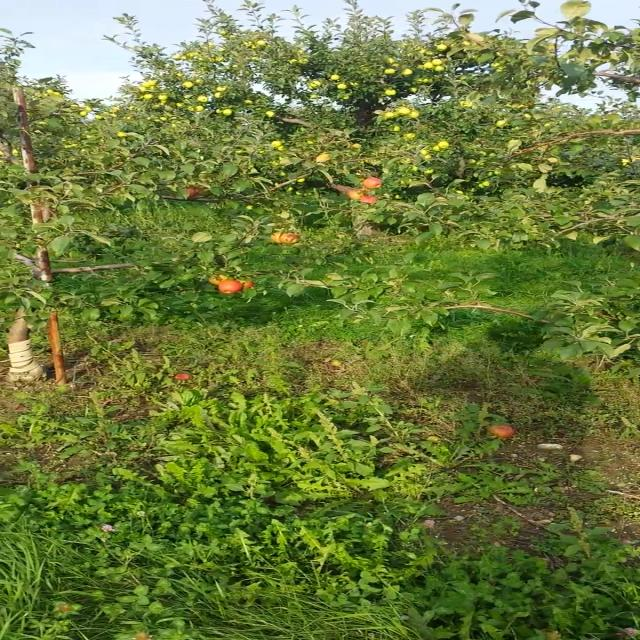apple: (217, 279, 242, 293), (279, 231, 299, 243), (362, 176, 381, 188), (210, 274, 228, 285), (268, 231, 282, 243), (348, 190, 362, 200), (185, 187, 197, 197), (359, 196, 376, 203), (239, 280, 253, 288), (620, 158, 631, 166), (350, 143, 362, 150), (398, 108, 409, 115), (385, 89, 396, 96), (276, 170, 287, 177), (410, 111, 420, 118), (436, 44, 446, 51), (510, 163, 520, 170), (266, 111, 276, 118), (183, 81, 193, 88), (194, 78, 204, 85), (495, 121, 506, 127), (405, 133, 416, 139), (402, 69, 413, 75), (434, 66, 445, 72), (295, 176, 306, 182), (271, 141, 282, 147), (330, 75, 341, 81), (311, 81, 320, 88), (12, 149, 21, 156), (386, 112, 396, 118), (423, 63, 433, 69), (432, 60, 442, 66), (460, 40, 470, 46), (490, 62, 500, 68), (466, 158, 476, 164), (278, 145, 288, 151), (195, 106, 205, 112), (198, 96, 208, 102), (216, 86, 226, 92), (213, 92, 223, 98), (298, 58, 308, 64), (70, 104, 80, 110), (84, 106, 94, 112), (461, 102, 472, 107), (217, 57, 228, 62), (478, 151, 487, 157), (307, 139, 316, 145), (245, 99, 254, 105), (338, 84, 347, 90), (137, 86, 146, 92), (251, 44, 260, 50), (110, 107, 120, 112), (228, 35, 238, 40), (258, 41, 268, 46), (236, 149, 246, 154), (439, 142, 447, 148), (224, 110, 232, 116), (142, 82, 150, 88), (149, 80, 157, 86), (425, 169, 434, 174), (385, 69, 394, 74), (386, 58, 395, 63), (109, 113, 118, 118), (117, 132, 126, 137), (144, 94, 153, 99), (218, 30, 227, 35), (411, 166, 418, 172), (342, 94, 349, 100), (424, 155, 432, 160), (392, 126, 400, 131), (417, 65, 425, 70), (523, 113, 531, 118), (394, 194, 402, 199), (455, 189, 463, 194), (495, 171, 503, 176), (486, 171, 494, 176), (216, 108, 224, 113), (187, 106, 195, 111), (311, 94, 319, 99), (158, 96, 168, 100), (177, 103, 185, 108), (172, 55, 180, 60), (497, 66, 506, 70), (79, 112, 88, 116), (95, 115, 104, 119), (433, 146, 440, 151), (290, 59, 297, 64), (179, 55, 186, 60), (245, 42, 252, 47), (482, 182, 490, 186), (160, 117, 168, 121), (186, 53, 194, 57), (421, 150, 427, 155), (478, 184, 485, 188), (392, 63, 399, 67), (489, 153, 496, 157), (126, 116, 133, 120), (161, 100, 168, 104), (47, 90, 54, 94), (206, 43, 213, 47), (210, 58, 217, 62), (410, 88, 416, 92), (544, 122, 550, 126), (55, 92, 61, 96), (495, 69, 502, 72), (557, 121, 564, 124), (259, 151, 265, 154), (256, 148, 262, 151)
